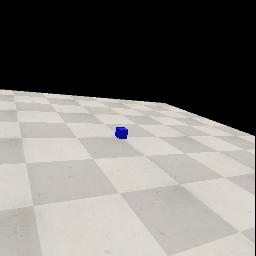box: (115, 127, 128, 139)
